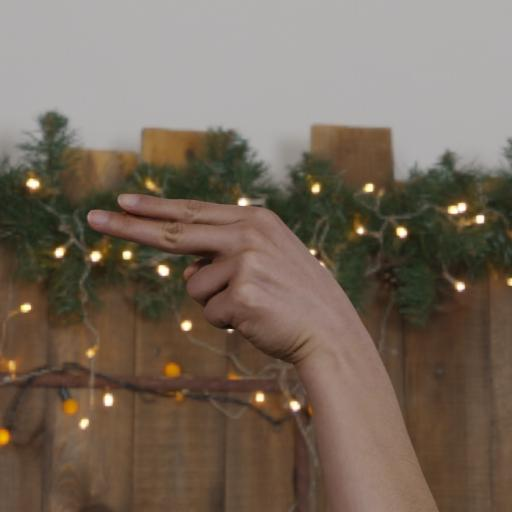H: (69, 180, 404, 377)
